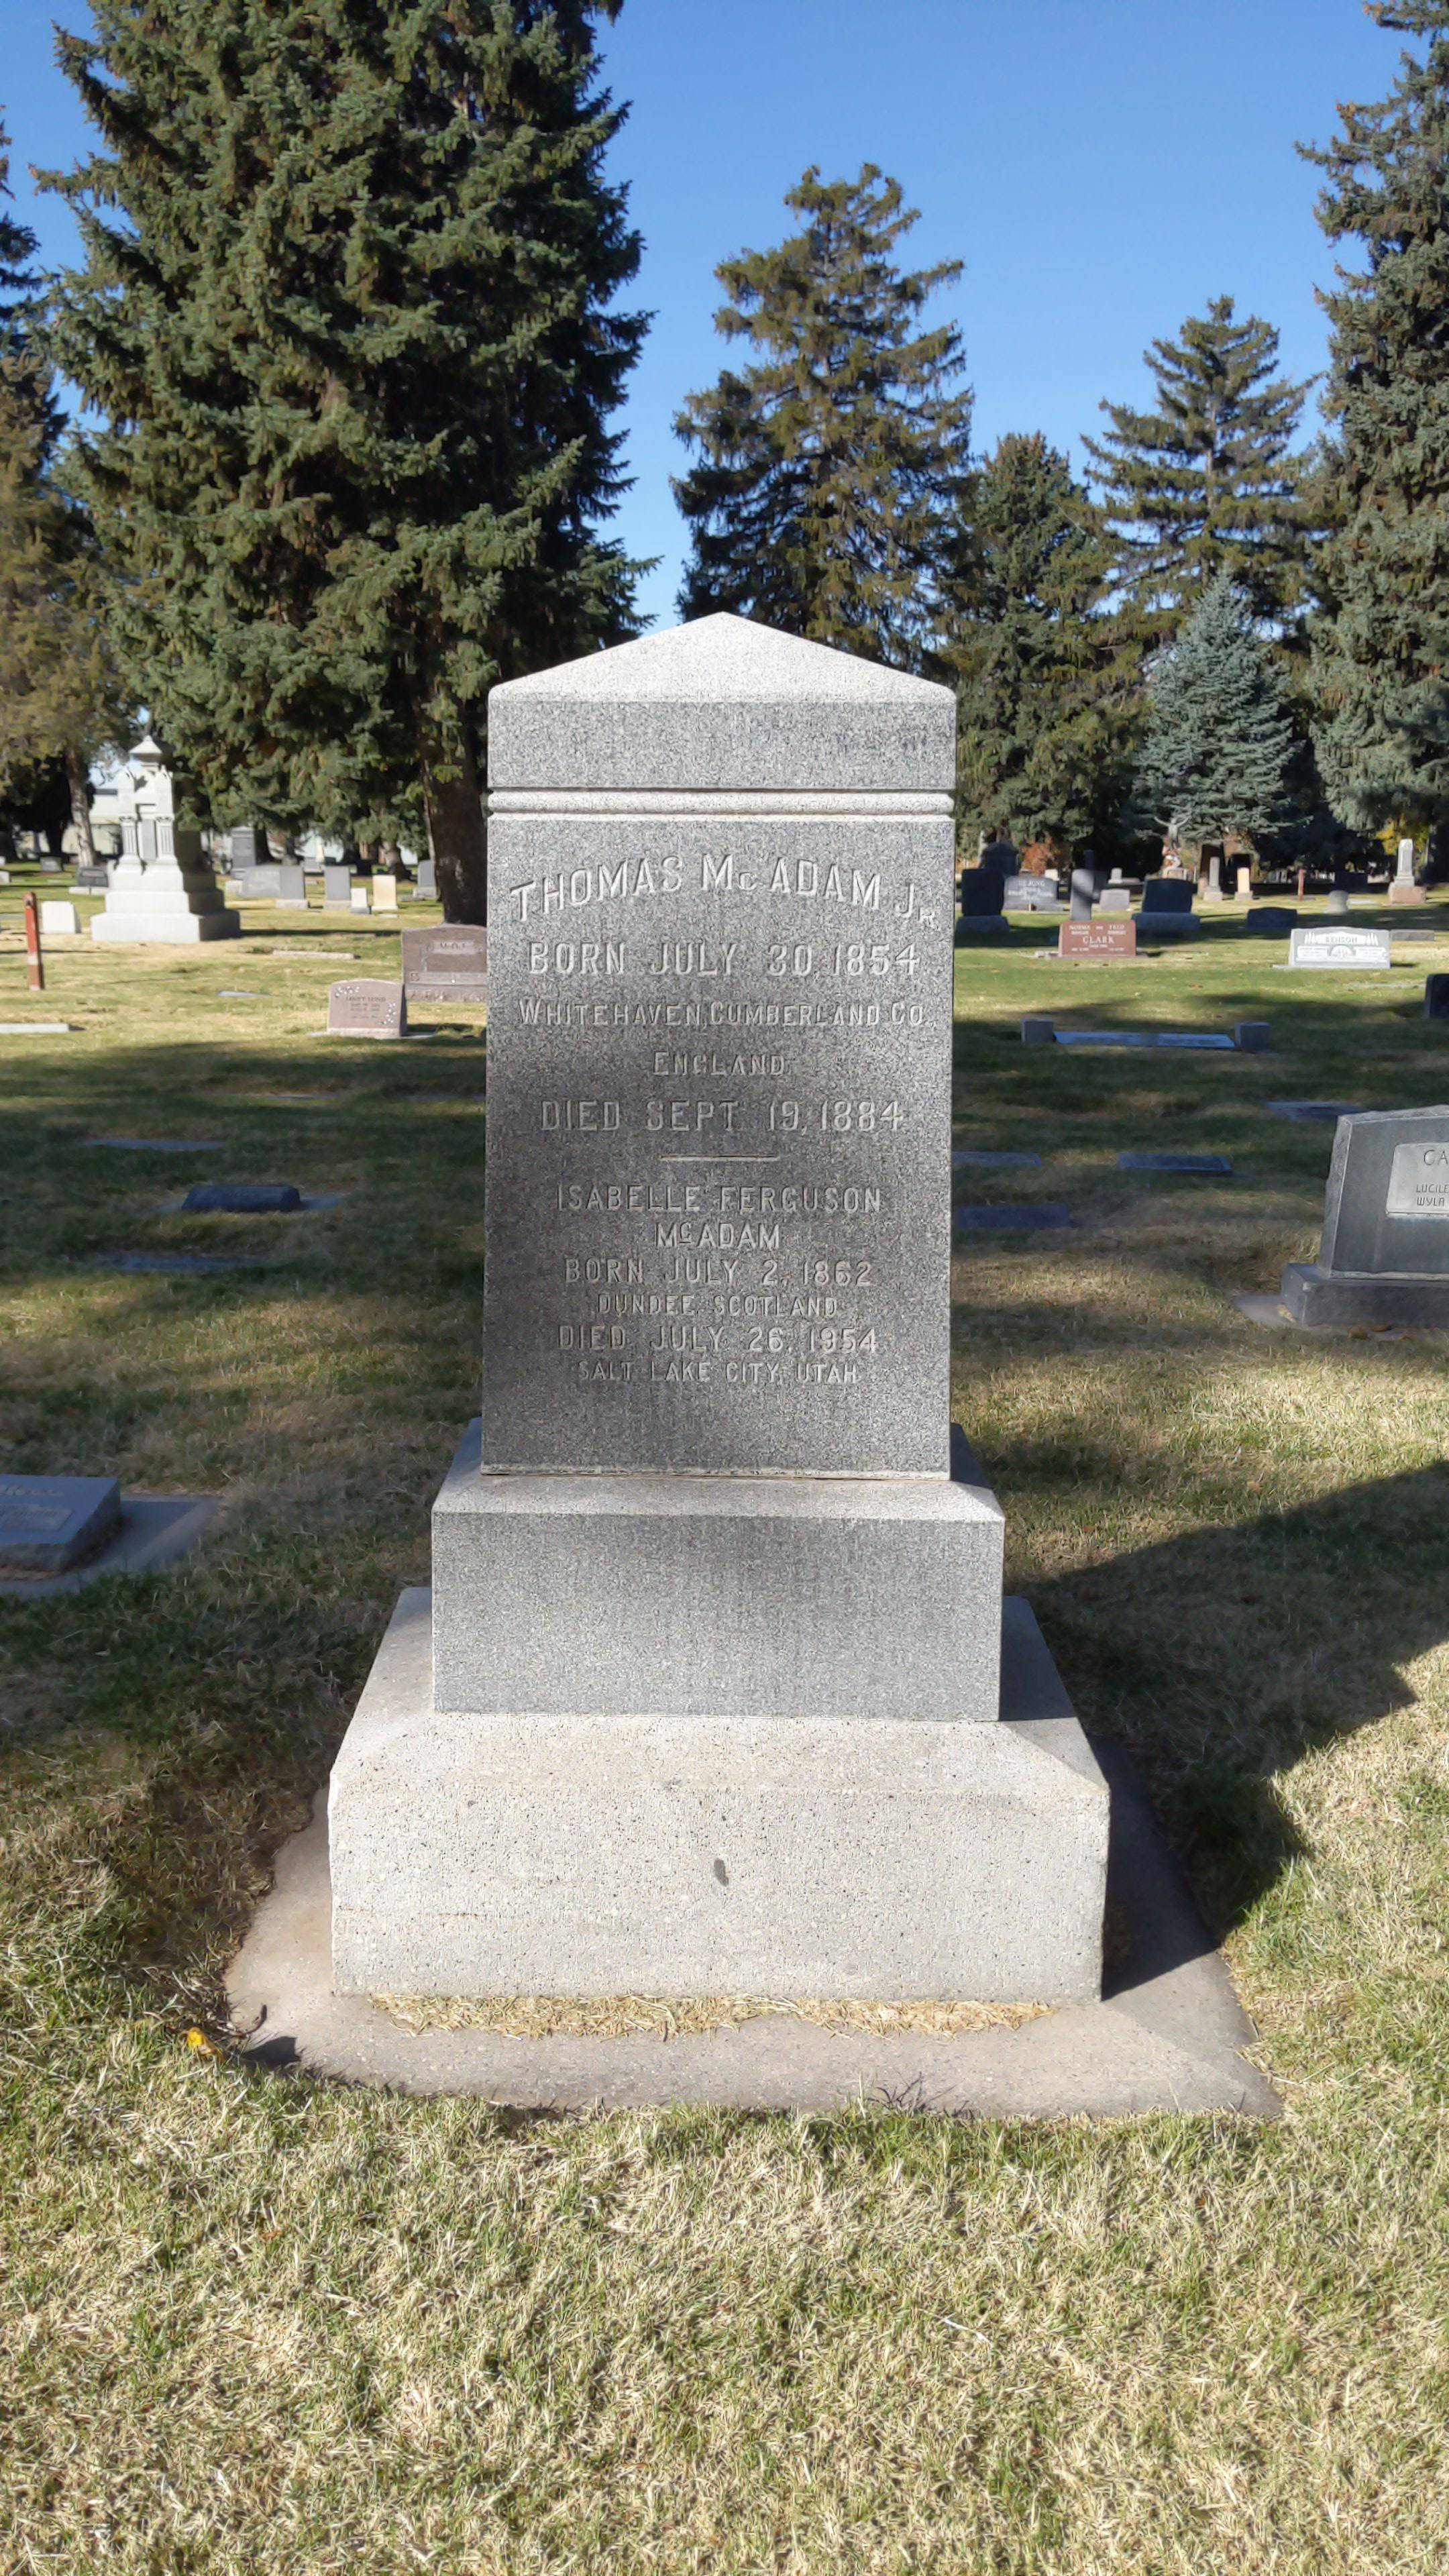obelisk: (430, 614, 1000, 1730)
